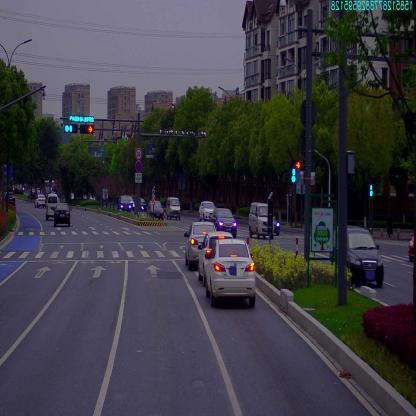traffic-light: (62, 124, 77, 134), (70, 115, 94, 120), (80, 126, 94, 134)
